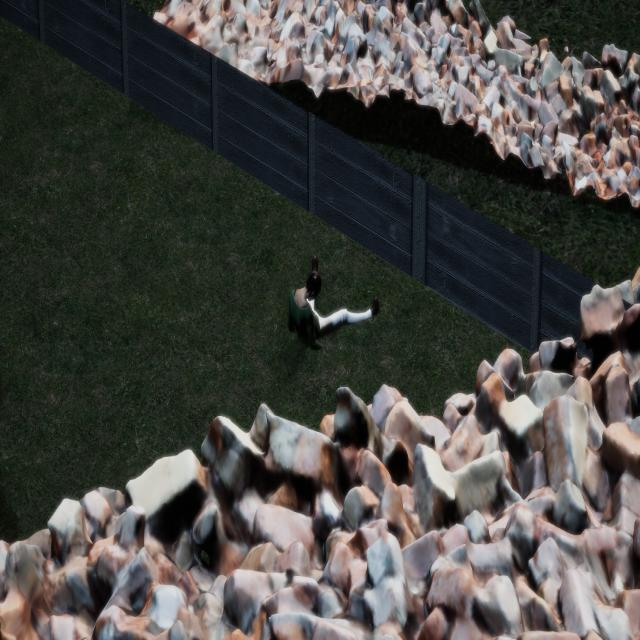Human: (285, 247, 382, 354)
